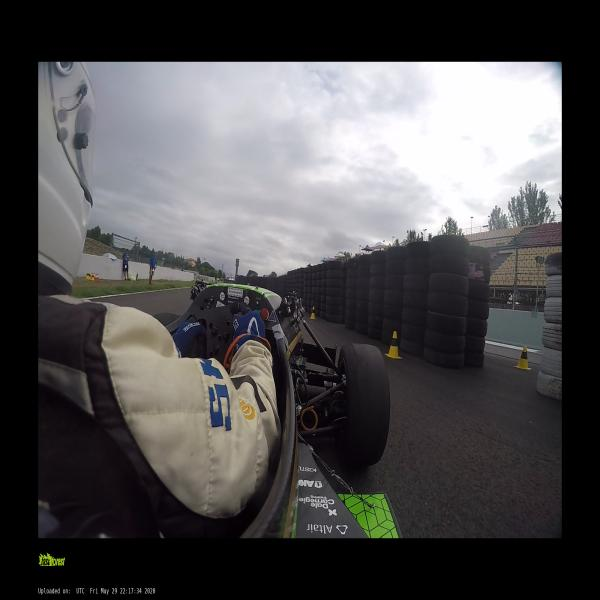yellow_cone: (384, 331, 402, 359), (514, 346, 531, 370), (309, 306, 316, 320)
